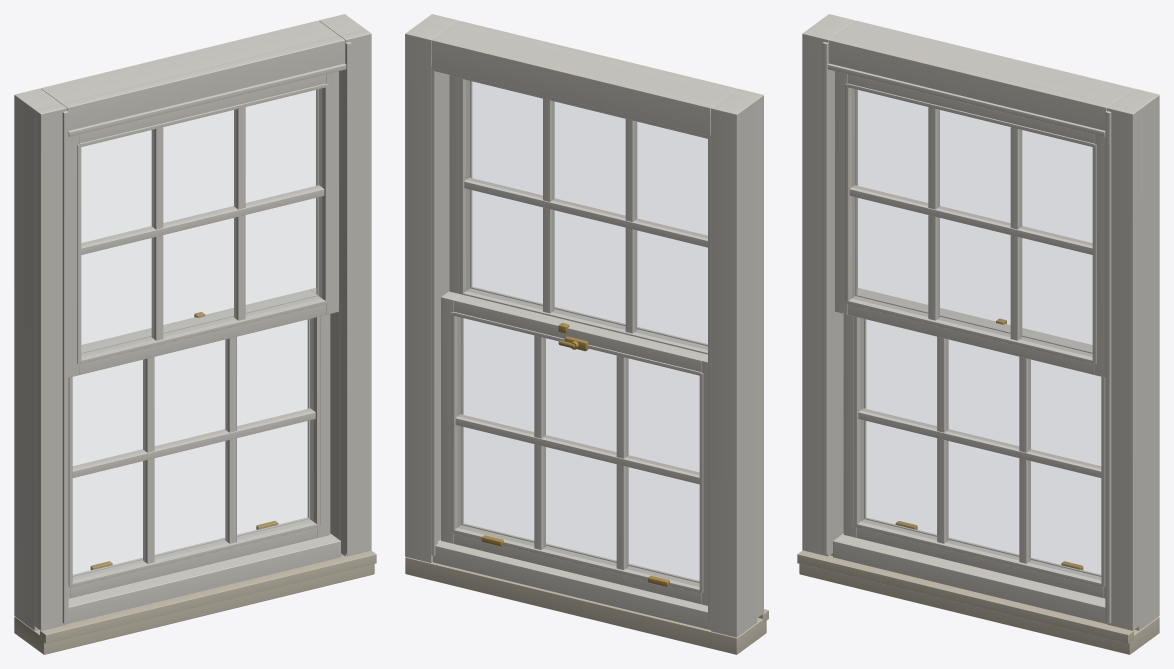
The model's file is rpg-mansion-sash-window-01.glb.
3 renders of one model, left to right at view 1: azimuth 30°, elevation 25°; view 2: azimuth 150°, elevation 25°; view 3: azimuth 330°, elevation 25°, orthographic.
Visible parts, largest first — view 1: rpg-mansion-sash-window-01; view 2: rpg-mansion-sash-window-01; view 3: rpg-mansion-sash-window-01.
Part boxes in pixels (left/top/right/bottom): rpg-mansion-sash-window-01: left=14, top=14, right=376, bottom=654; rpg-mansion-sash-window-01: left=405, top=14, right=768, bottom=654; rpg-mansion-sash-window-01: left=797, top=14, right=1159, bottom=654.
Bounding box in the file's own units: 0.9 × 1.4 × 0.15.
